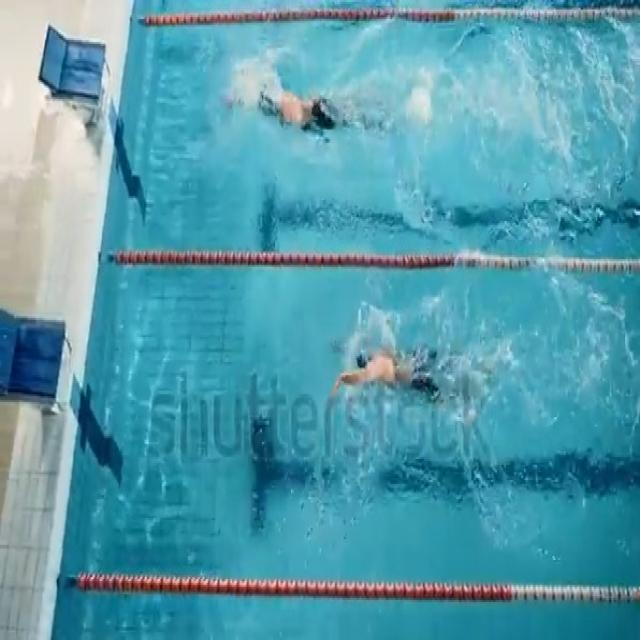swimming: (303, 310, 537, 440), (208, 40, 368, 174)
